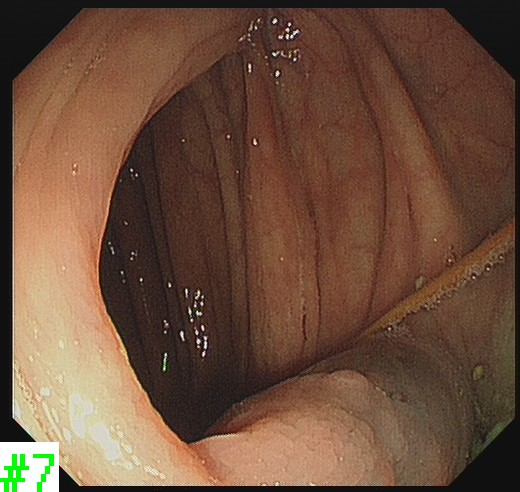others: (325, 366, 375, 395)
